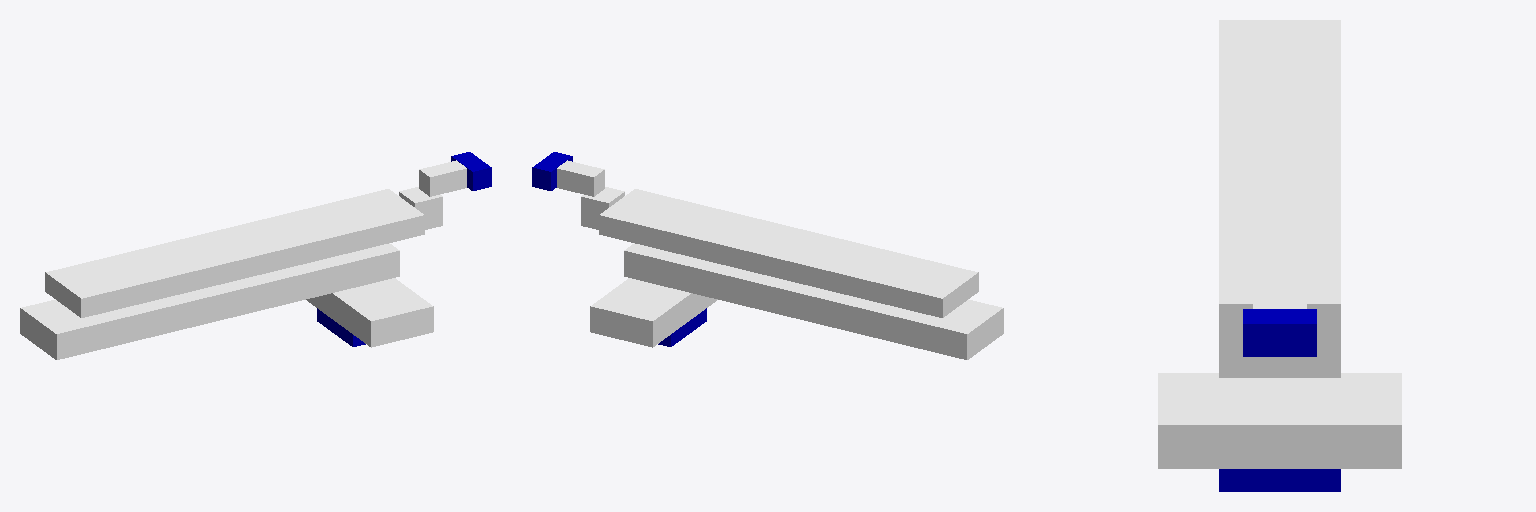
robot.urdf — r5sr:
<?xml version="1.0"?>
<robot name="r5sr">

  <material name="blue">
    <color rgba="0 0 0.8 1"/>
  </material>

  <material name="white">
    <color rgba="1 1 1 1"/>
  </material>

  <link name="base_link">
    <visual>
     <origin rpy="0 0 0" xyz="0 0 0"/>
      <geometry>
        <cylinder length="0.01" radius="0.02"/>
      </geometry>
    </visual>
  </link>

  <link name="body0_link_yaw">
    <visual>
      <geometry>
        <box size="0.1 0.1 0.02"/>
      </geometry>
      <origin xyz="0 0 0" rpy="0 0 0"/>
      <material name="blue"/>
    </visual>
  </link>
  
  <link name="body1_link">
    <visual>
      <geometry>
        <box size="0.1 0.2 0.04"/>
      </geometry>
      <origin xyz="0 0 0.03" rpy="0 0 0"/>
      <material name="white"/>
    </visual>
  </link>
  
  <link name="body2_link">
    <visual>
      <geometry>
       <box size="0.55 0.1 0.04"/>
      </geometry>
      <origin xyz="-0.25 0 0" rpy="0 0 0"/>
      <material name="white"/>
    </visual>
  </link>
  
  <link name="body3_link">
    <visual>
      <geometry>
        <box size="0.55 0.1 0.03"/>
      </geometry>
      <origin xyz="0.27 0 0.05" rpy="0 0 0"/>
      <material name="white"/>
    </visual>
  </link>

  <link name="body4_link">
    <visual>
      <geometry>
        <box size="0.045 0.045 0.045"/>
      </geometry>
      <origin xyz="0.0055 0 0.005" rpy="0 0 0"/>
      <material name="white"/>
    </visual>
  </link>

  <link name="body5_link">
    <visual>
      <geometry>
       <box size="0.06 0.03 0.03"/>
      </geometry>
      <origin xyz="-0.0008 0 -0.0025" rpy="0 0 0"/>
      <material name="white"/>
    </visual>
  </link>

  <link name="body6_link">
    <visual>
      <geometry>
      <box size="0.03 0.06 0.03"/>
      </geometry>
      <origin xyz="0.002 0 -0.002" rpy="0 0 0"/>
      <material name="blue"/>
    </visual>
  </link>

  <joint name="body0_joint_yaw" type="fixed">
    <parent link="base_link"/>
    <child link="body0_link_yaw"/>
    <axis xyz="0 0 1"/>
    <origin xyz="0 0 0" rpy="0 0 0"/>
    <limit lower="0" upper="0" effort="0" velocity="3.1415"/>
  </joint>
  
  <joint name="body1_joint" type="revolute">
    <parent link="body0_link_yaw"/>
    <child  link="body1_link"/>
    <axis xyz="0 0 1"/>
    <origin xyz="0 0 0" rpy="0 0 0"/>
    <limit lower="-1.575" upper="1.575" effort="0" velocity="3.1415"/>
  </joint>

  <joint name="body2_joint" type="revolute">
    <parent link="body1_link"/>
    <child  link="body2_link"/>
    <axis xyz="0 1 0"/>
    <origin xyz="0 0 0.101" rpy="0 0 0"/>
    <limit lower="-0" upper="3.15" effort="0" velocity="3.1415"/>
  </joint>

  <joint name="body3_joint" type="revolute">
    <parent link="body2_link"/>
    <child  link="body3_link"/>
    <axis xyz="0 1 0"/>
    <origin xyz="-0.480 -0. 0" rpy="0 0 0"/>
    <limit lower="-3.15" upper="0" effort="0" velocity="3.1415"/>
  </joint>

    <joint name="body4_joint" type="revolute">
    <parent link="body3_link"/>
    <child  link="body4_link"/>
    <axis xyz="0 1 0"/>
    <origin xyz="0.56235 0 0.0443" rpy="0 0 0"/>
    <limit lower="-3.15" upper="3.15" effort="0" velocity="3.1415"/>
  </joint>

  <joint name="body5_joint" type="revolute">
    <parent link="body4_link"/>
    <child  link="body5_link"/>
    <axis xyz="0 0 1"/>
    <origin xyz="0.042 0 0.045" rpy="0 0 0"/>
    <limit lower="-3.15" upper="3.15" effort="0" velocity="3.1415"/>
  </joint>

  <joint name="body6_joint" type="revolute">
    <parent link="body5_link"/>
    <child  link="body6_link"/>
    <axis xyz="1 0 0"/>
    <origin xyz="0.042 0 0" rpy="0 0 0"/>
    <limit lower="-3.14159265" upper="3.14159265" effort="0" velocity="3.1415"/>
  </joint>

</robot>

--- Render facts (derived) ---
Views: 3 orthographic renders of the robot side by side, from view 1: azimuth 30°, elevation 25°; view 2: azimuth 150°, elevation 25°; view 3: azimuth 270°, elevation 25°.
Model r5sr with 8 links and 7 joints (6 revolute, 1 fixed), rooted at base_link, posed every joint at zero.
Visible links, largest first — view 1: body3_link, body2_link, body1_link, body5_link, body4_link, body6_link, body0_link_yaw; view 2: body3_link, body2_link, body1_link, body5_link, body4_link, body6_link, body0_link_yaw; view 3: body3_link, body1_link, body6_link, body0_link_yaw, body2_link, body5_link, body4_link.
Boxes of the visible links, x1=… form: body3_link: x1=45, y1=189, x2=424, y2=317; body2_link: x1=20, y1=243, x2=399, y2=359; body1_link: x1=306, y1=278, x2=433, y2=347; body5_link: x1=419, y1=160, x2=466, y2=196; body4_link: x1=399, y1=187, x2=442, y2=229; body6_link: x1=451, y1=152, x2=491, y2=190; body0_link_yaw: x1=317, y1=308, x2=365, y2=346; body3_link: x1=599, y1=189, x2=978, y2=317; body2_link: x1=624, y1=243, x2=1003, y2=359; body1_link: x1=590, y1=278, x2=717, y2=347; body5_link: x1=557, y1=160, x2=604, y2=196; body4_link: x1=581, y1=187, x2=624, y2=229; body6_link: x1=532, y1=152, x2=572, y2=190; body0_link_yaw: x1=658, y1=308, x2=706, y2=346; body3_link: x1=1219, y1=20, x2=1340, y2=337; body1_link: x1=1158, y1=373, x2=1401, y2=468; body6_link: x1=1243, y1=309, x2=1316, y2=356; body0_link_yaw: x1=1219, y1=469, x2=1340, y2=491; body2_link: x1=1219, y1=338, x2=1340, y2=377; body5_link: x1=1262, y1=278, x2=1297, y2=308; body4_link: x1=1253, y1=297, x2=1306, y2=369.
Bounding box of the posed robot: 0.7083 × 0.2 × 0.2133 m (x, y, z).
Geometry: primitives only (box / cylinder / sphere), no mesh files.